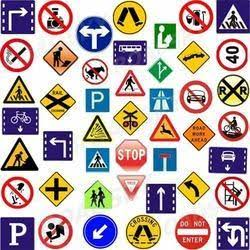100mph: (138, 60, 176, 98)
120mph: (138, 120, 178, 155)
30mph: (94, 59, 128, 97)
50mph: (92, 119, 129, 158)
60mph: (90, 175, 128, 211)
80mph: (134, 1, 178, 37)
stop sign: (1, 181, 38, 217), (1, 1, 38, 35)
